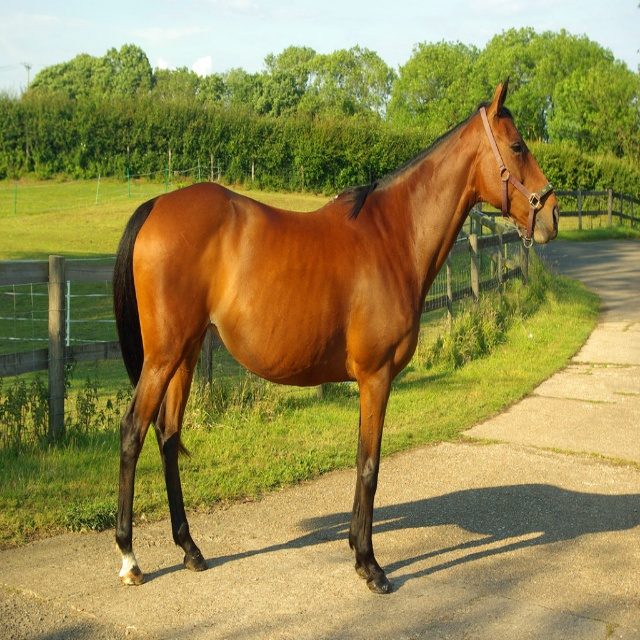Horse: (115, 75, 561, 597)
